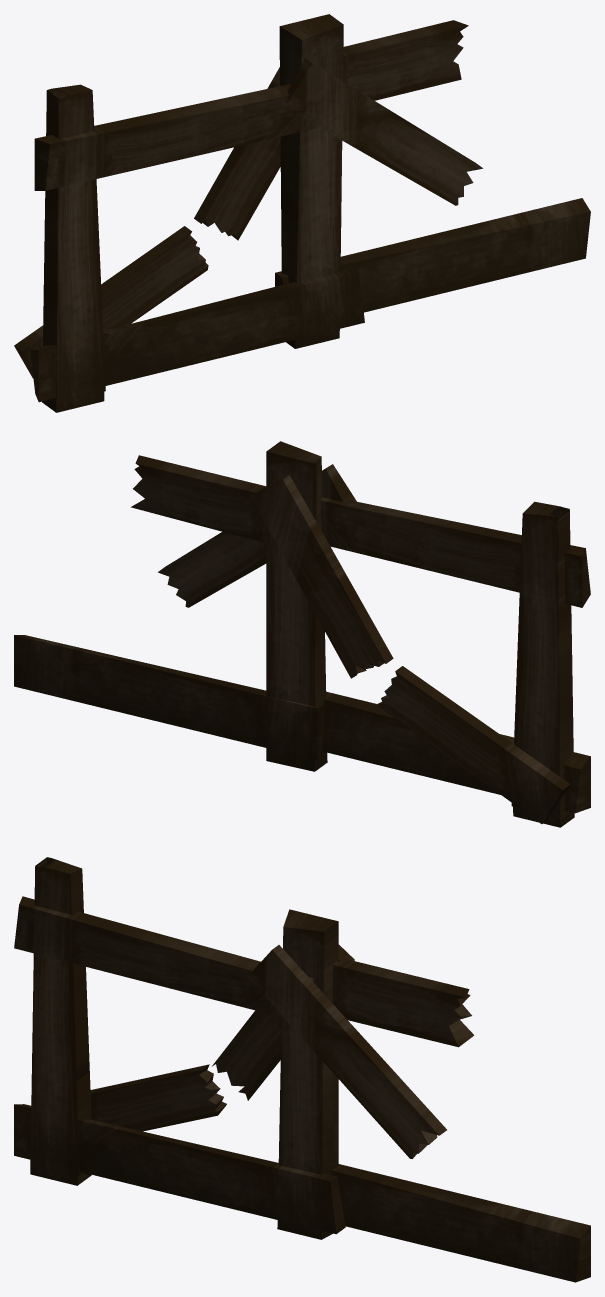
File: ruraltown_broken_square_fence.fbx
3 views of the same model, one above another, from view 1: azimuth 30°, elevation 25°; view 2: azimuth 150°, elevation 25°; view 3: azimuth 330°, elevation 25° (orthographic).
Parts seen in each view (by area): view 1: broken_fence; view 2: broken_fence; view 3: broken_fence.
Boxes of the visible parts, x1,y1,x2,y2 form: broken_fence: (14, 14, 590, 412); broken_fence: (14, 441, 590, 827); broken_fence: (14, 857, 590, 1282).
Size of the model in its own units: 226 by 120 by 24.86.
